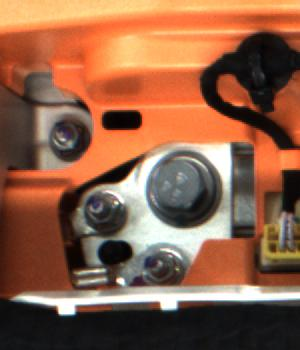nut_b: (147, 152, 214, 225)
screw_s: (85, 185, 120, 234), (145, 247, 185, 285), (48, 121, 84, 151)
